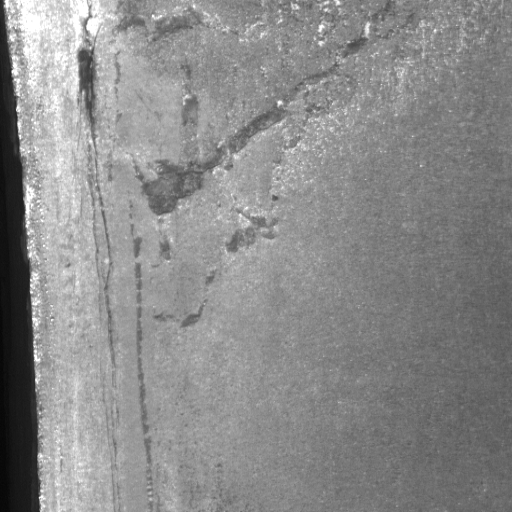qiaopi: (135, 103, 288, 217)
